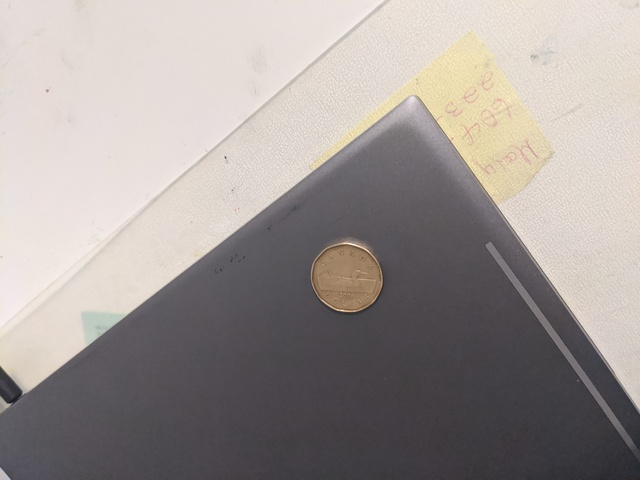loonie: (308, 234, 384, 313)
